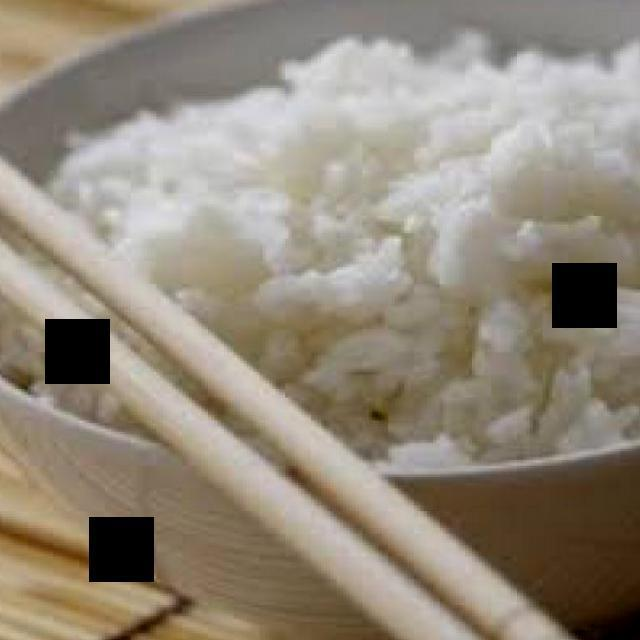Chicken -Chicken Inasal-: (42, 36, 639, 473)
